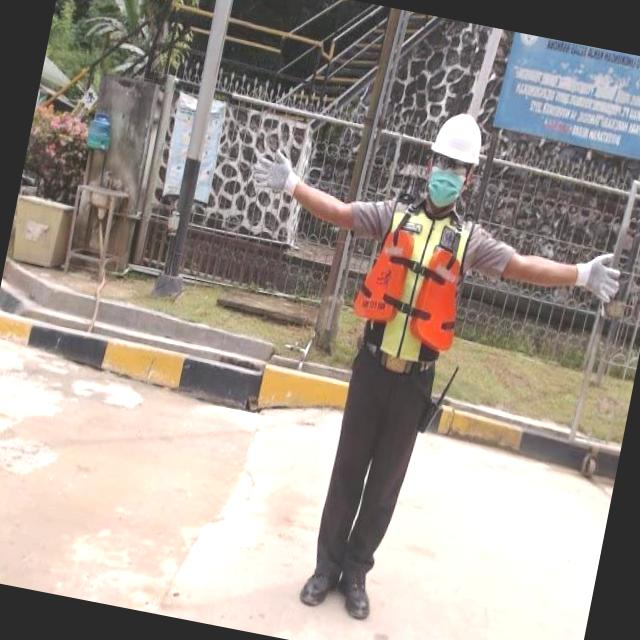boots: (332, 566, 378, 625), (296, 558, 342, 614)
gloves: (542, 230, 630, 352), (228, 140, 310, 210)
helmet: (428, 106, 490, 168)
vest: (346, 196, 479, 370)
